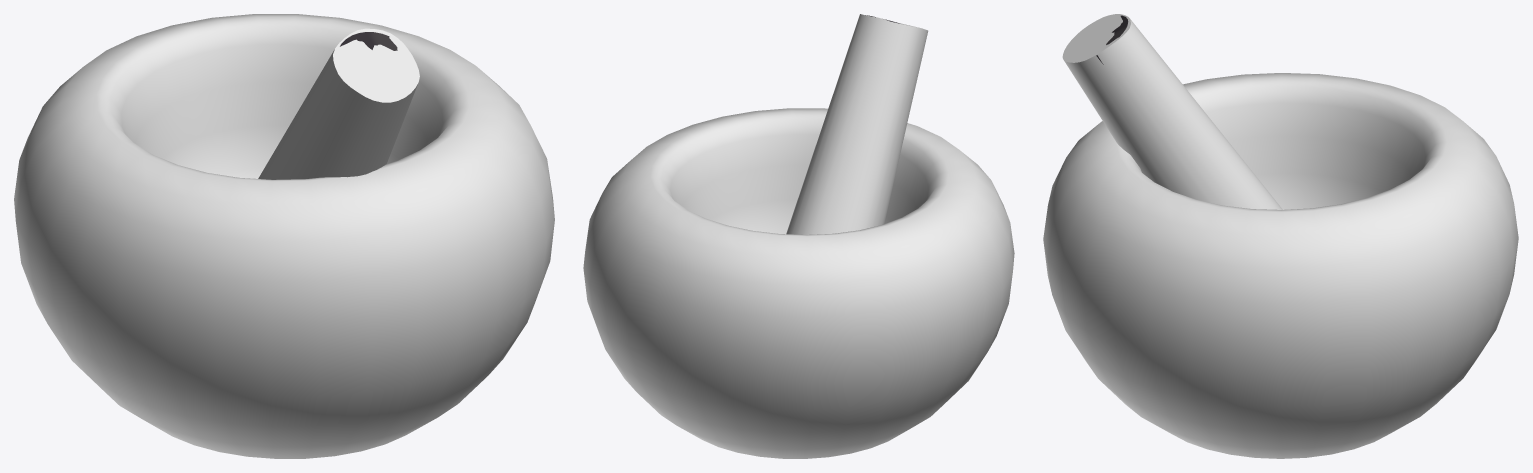
File: mortar&pestle.fbx
The picture shows the model from 3 angles, left to right: view 1: azimuth 30°, elevation 25°; view 2: azimuth 150°, elevation 25°; view 3: azimuth 270°, elevation 25°; orthographic projection. The views are drawn at different scales.
Visible parts, largest first — view 1: mortar, pestle; view 2: mortar, pestle; view 3: mortar, pestle.
Boxes of the visible parts, x1,y1,x2,y2 form: mortar: [14, 14, 554, 458]; pestle: [258, 28, 419, 179]; mortar: [583, 108, 1014, 458]; pestle: [786, 14, 928, 234]; mortar: [1043, 73, 1518, 458]; pestle: [1062, 14, 1282, 209].
Size of the model in its own units: 2.01 by 1.85 by 2.03.
Materials: 3 (2 with a texture image).
